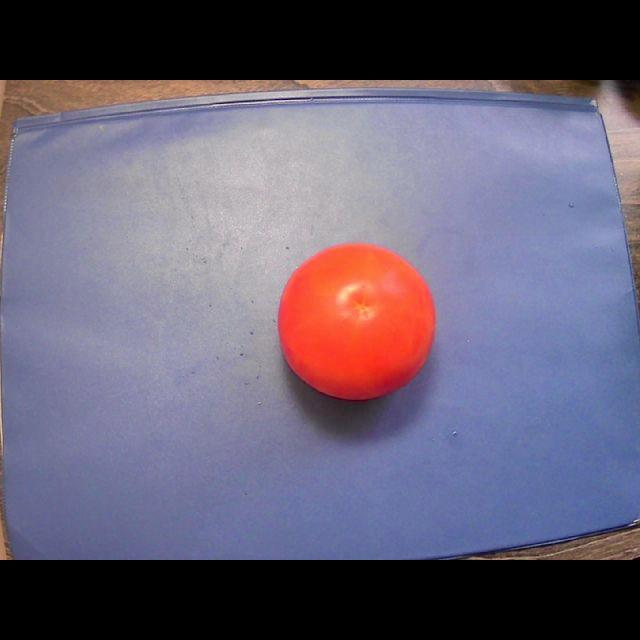tomate: (279, 244, 435, 400)
